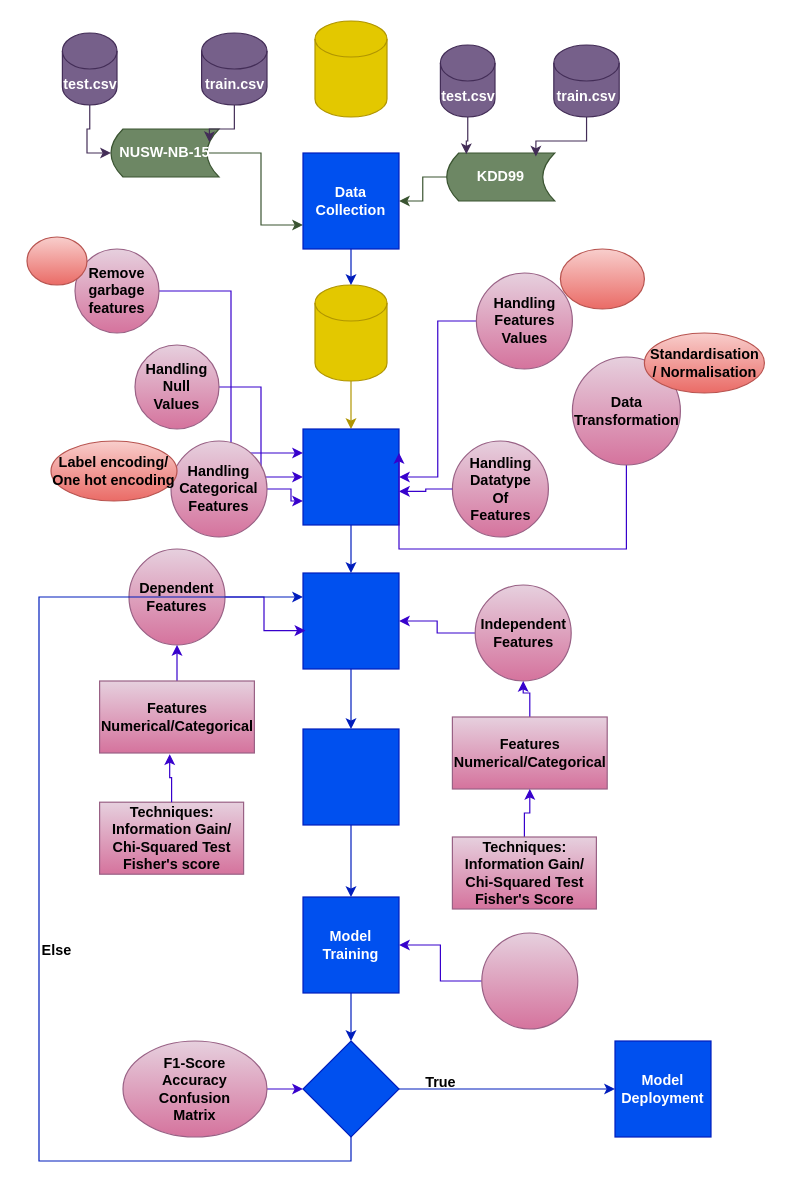
Some shapes in this 785 by 1192 pixel diagram are drawn without their labels. The centre of each missing label's shape, as x and y in pixels:
Data Preprocessing (EDA/Feature Engineering): [350,476]
Dataset: [350,68]
Domain Knowledge: [601,278]
Feature Selection: [350,620]
id index: [56,260]
Load Dataset: [350,332]
Model Evaluation: [350,1088]
Model Selection ?: [350,776]
X_train y_train X_test y_test: [529,980]
